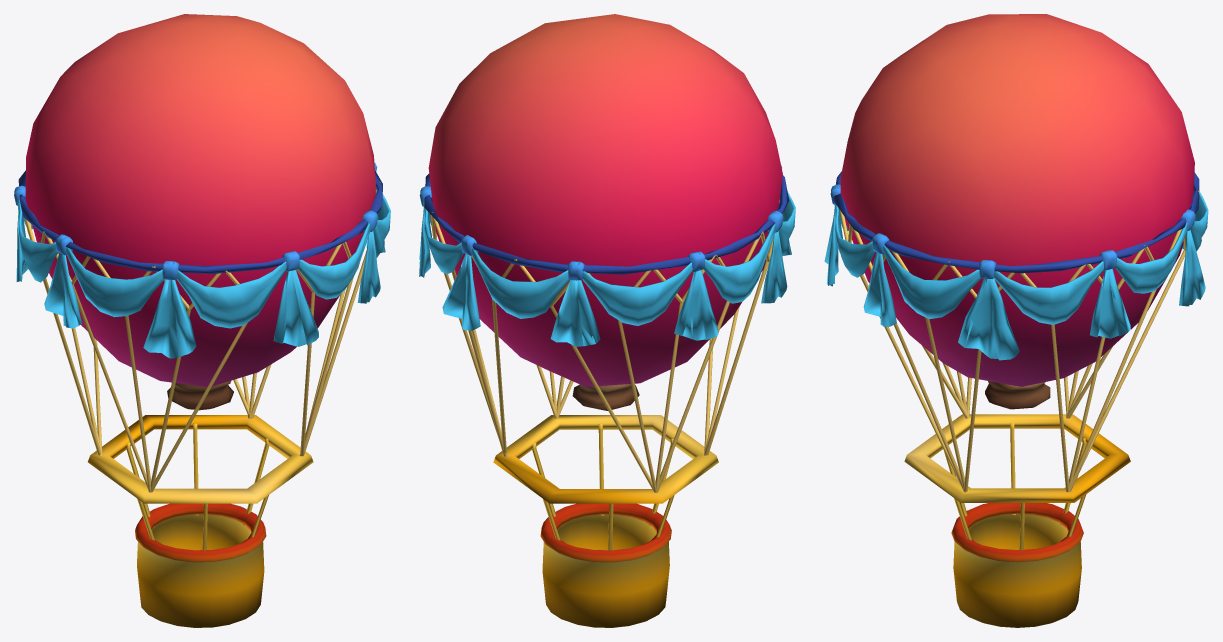
File: airbaloon.fbx
3 views of the same model, side by side, from view 1: azimuth 30°, elevation 25°; view 2: azimuth 150°, elevation 25°; view 3: azimuth 270°, elevation 25° (orthographic).
Visible parts, largest first — view 1: Cylinder.007; view 2: Cylinder.007; view 3: Cylinder.007.
Boxes of the visible parts, x1=… form: Cylinder.007: x1=14, y1=14, x2=390, y2=627; Cylinder.007: x1=419, y1=14, x2=795, y2=627; Cylinder.007: x1=824, y1=14, x2=1208, y2=627.
Size of the model in its own units: 976 by 1612 by 984.
Materials: 1 (1 with a texture image).
